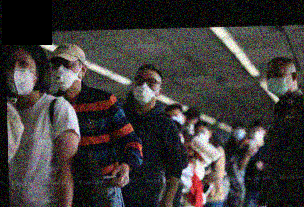with_mask: (6, 55, 35, 98), (50, 58, 76, 92), (132, 73, 157, 105), (266, 67, 291, 96), (250, 124, 267, 142), (195, 128, 211, 144), (183, 120, 199, 136), (167, 110, 184, 125), (232, 125, 247, 140)
